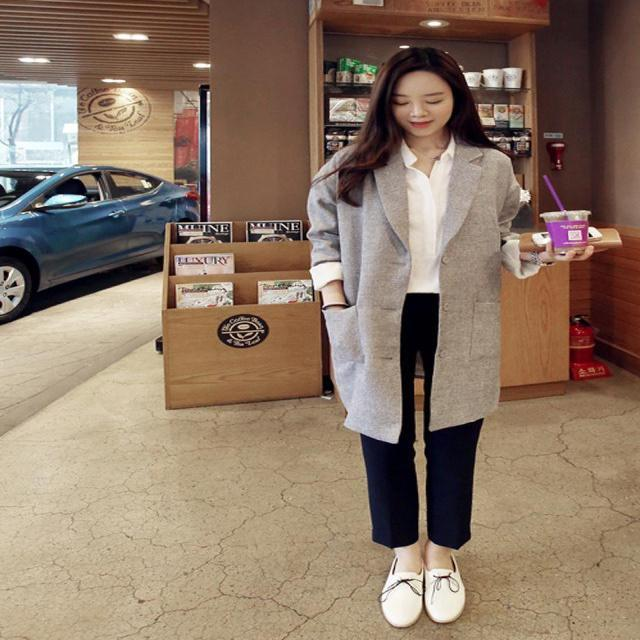long sleeve outwear: (306, 137, 419, 444)
trousers: (351, 293, 485, 551)
